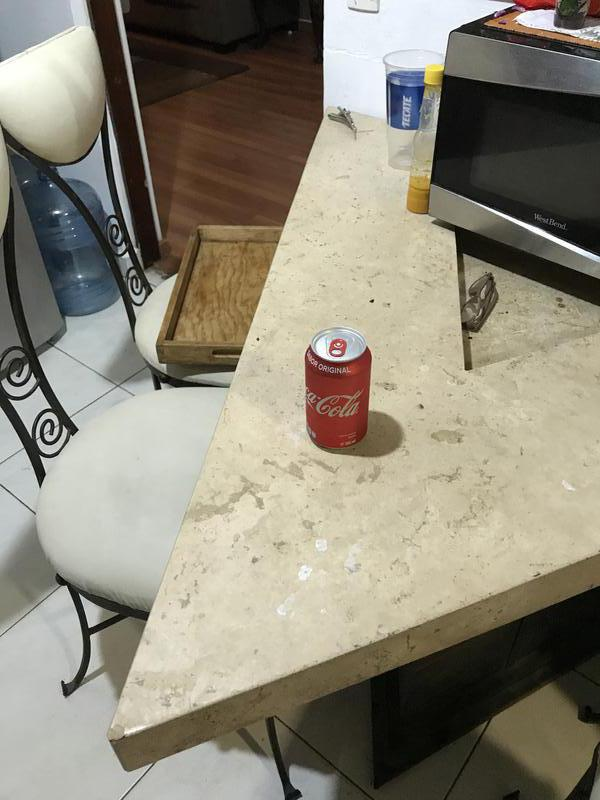coca_cola: (305, 328, 372, 450)
